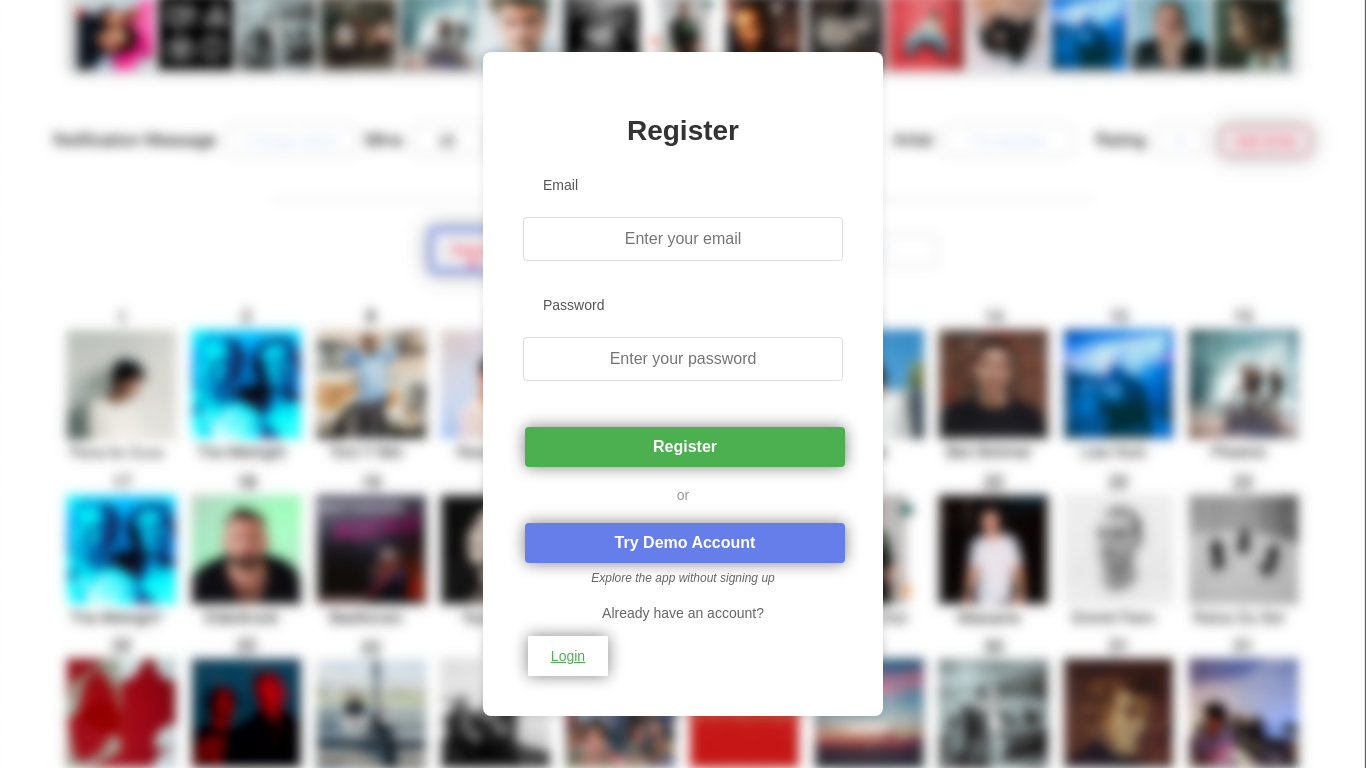
Test: Auth › shows the server error message
Type "a@b.com" into the field with placeholder "Enter your email" at (683, 239), box [523, 217, 843, 261]
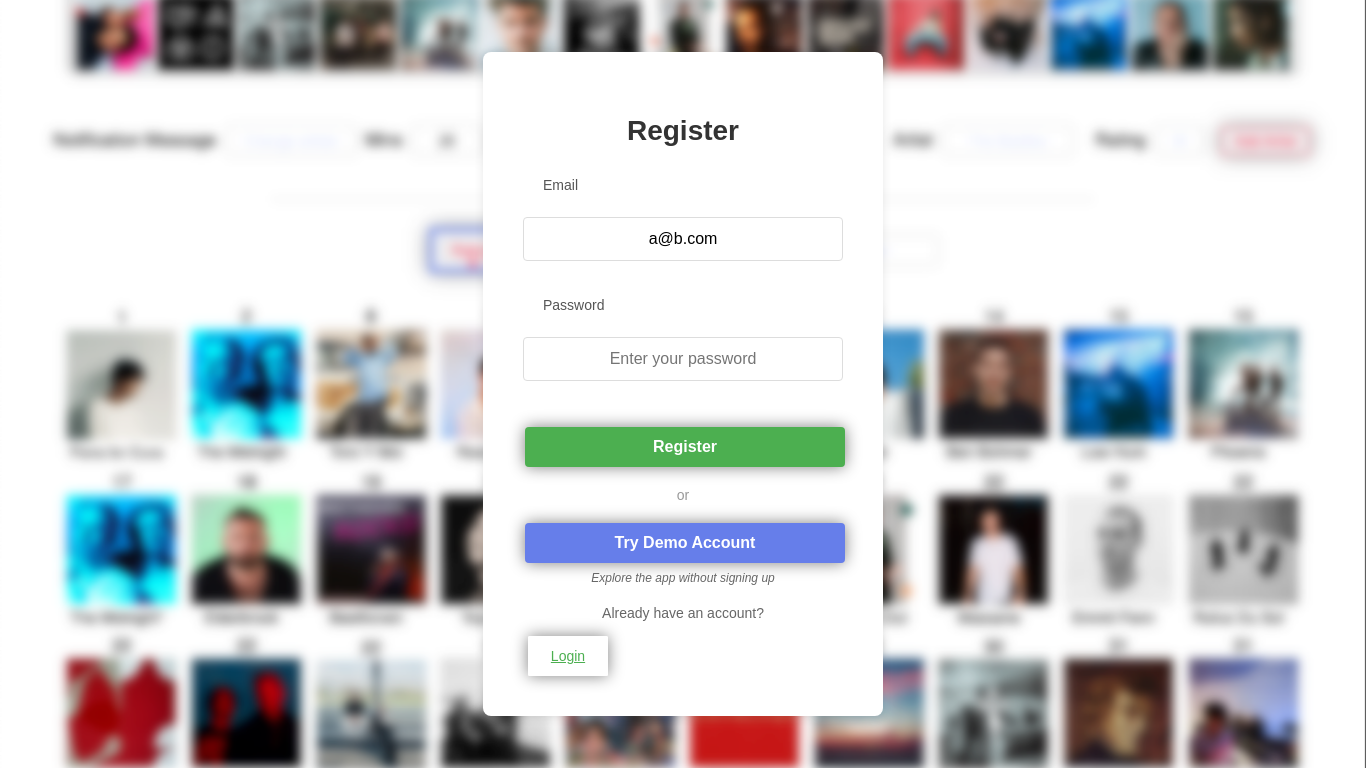
Type "secret1" into the password field with placeholder "Enter your password" at (683, 359), box [523, 337, 843, 381]
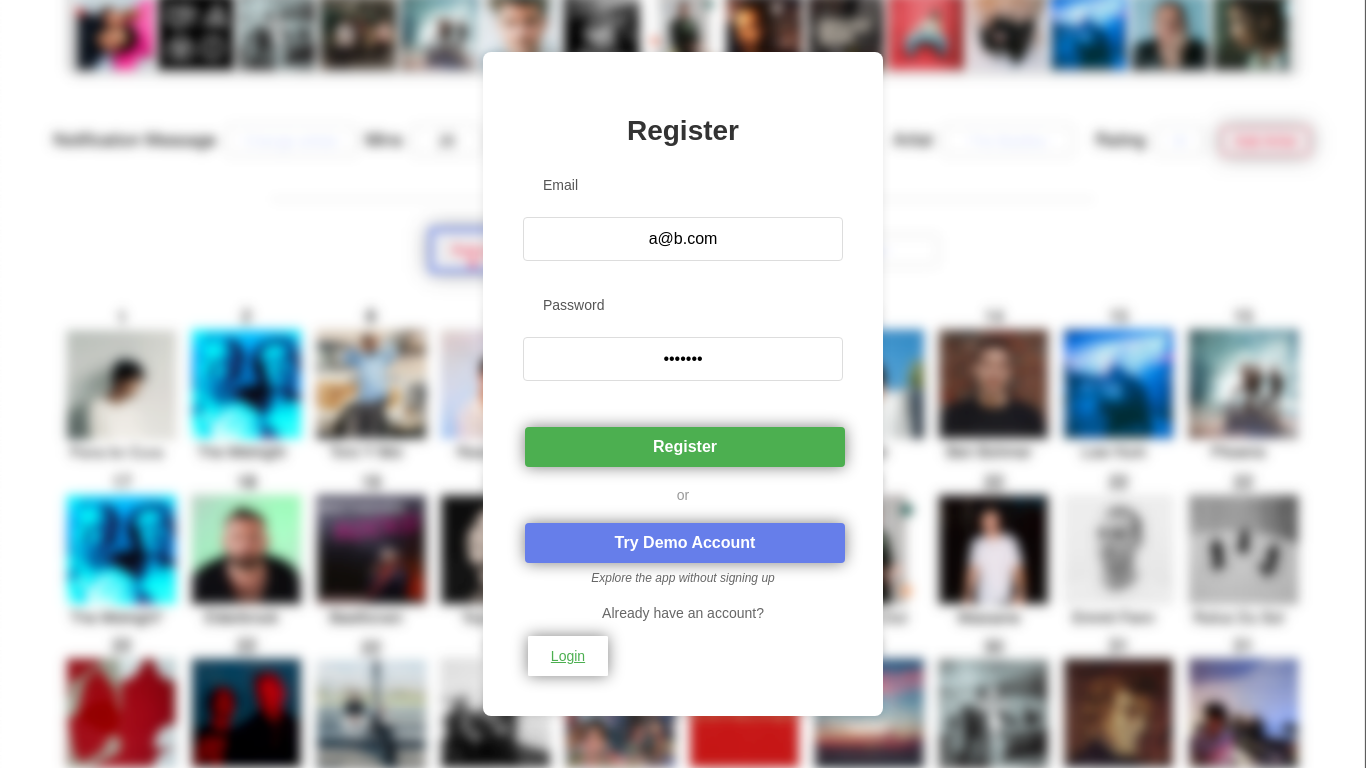
Submit the form with placeholder "Enter your email", box [523, 177, 843, 467]
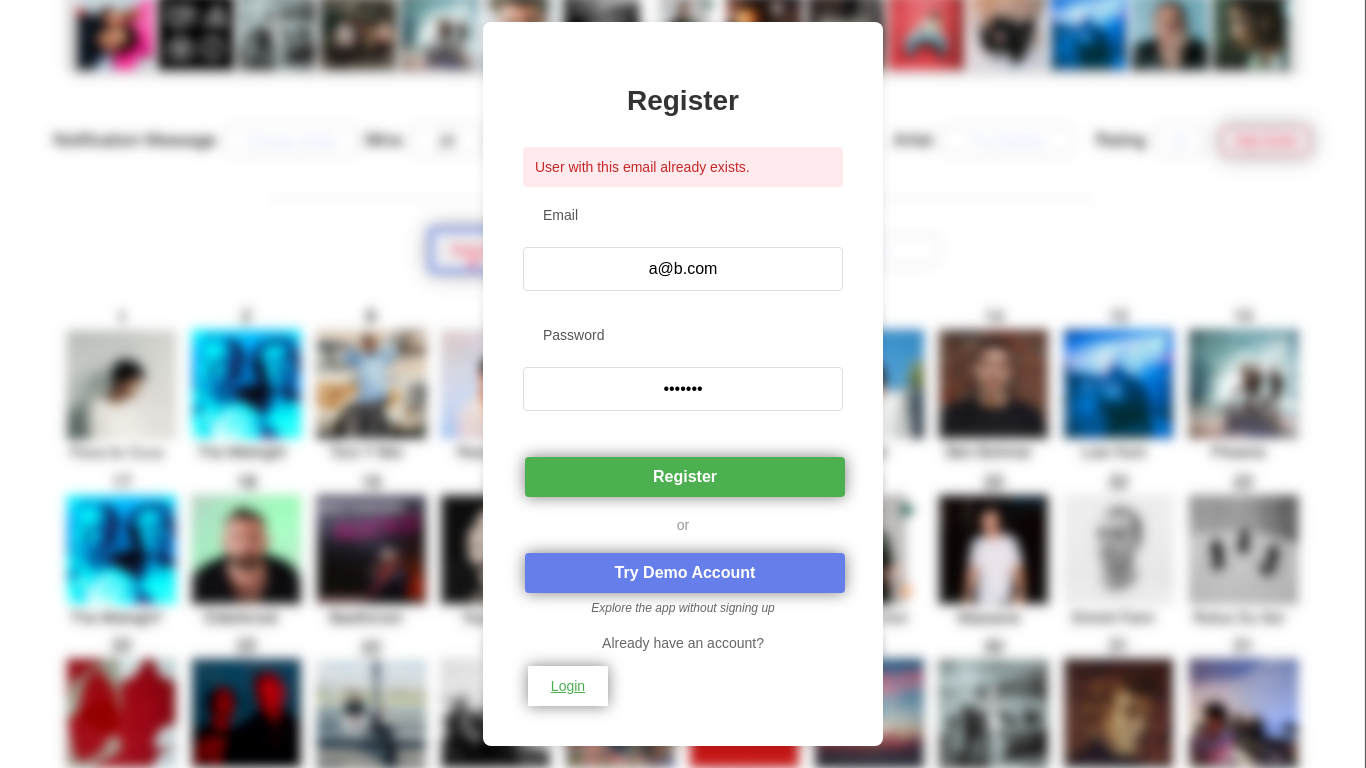
Expected: the button "Register" is enabled, [525, 457, 845, 497]
Now the text "User with this email already exists." is shown, box [523, 147, 843, 187]
